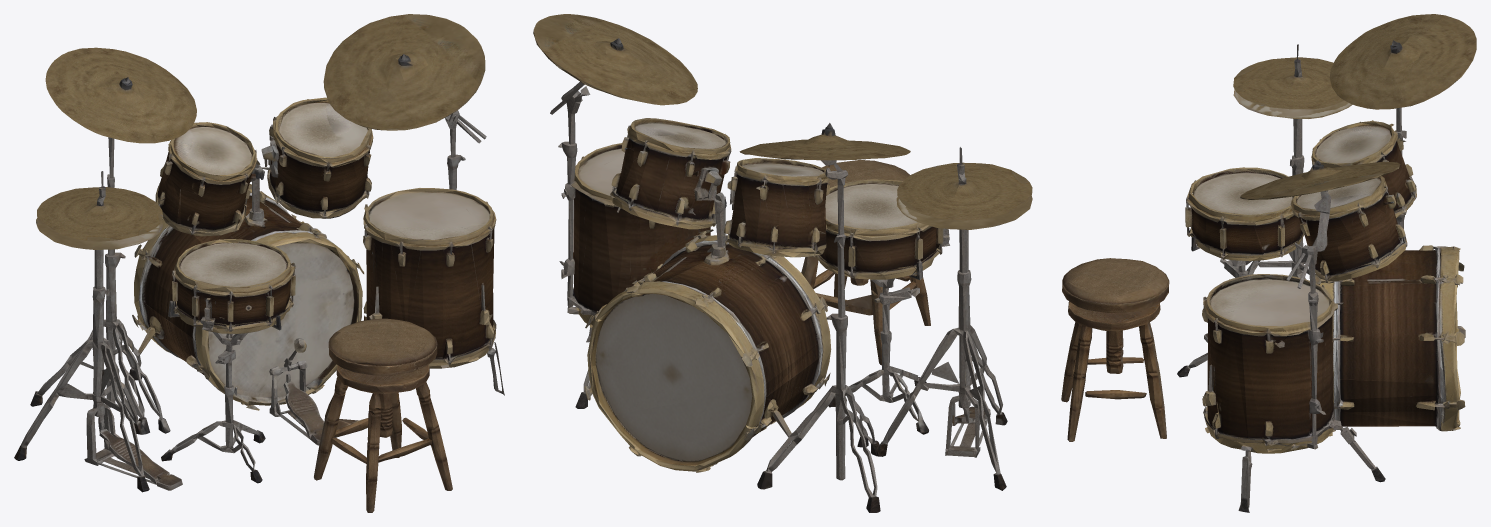
Rendered from drumkit.glb.
3 views of the same model, side by side, from view 1: azimuth 30°, elevation 25°; view 2: azimuth 150°, elevation 25°; view 3: azimuth 270°, elevation 25° (orthographic). The views are drawn at different scales.
Parts seen in each view (by area): view 1: Mesh_0; view 2: Mesh_0; view 3: Mesh_0.
Part boxes in pixels (x1=…): Mesh_0: x1=14, y1=14, x2=504, y2=512; Mesh_0: x1=533, y1=14, x2=1032, y2=512; Mesh_0: x1=1061, y1=14, x2=1476, y2=512.
Bounding box in the file's own units: 1.88 × 1.34 × 1.53.
1 material, 1 textured.
